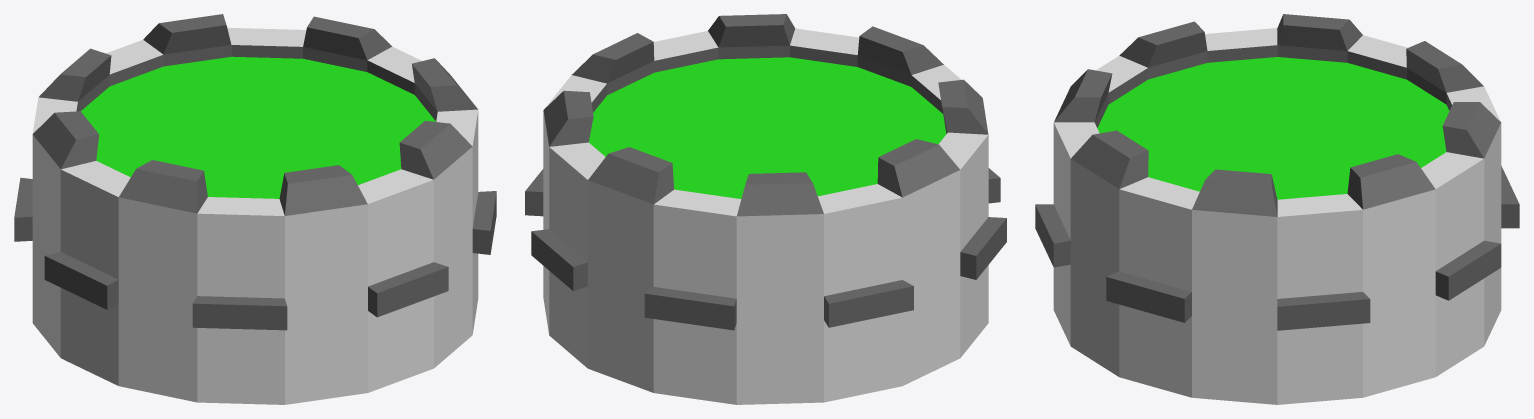
The model's file is UFO-gun.gltf.
3 views of the same model, side by side, from view 1: azimuth 30°, elevation 25°; view 2: azimuth 150°, elevation 25°; view 3: azimuth 270°, elevation 25° (orthographic).
Visible parts, largest first — view 1: ufo-gun; view 2: ufo-gun; view 3: ufo-gun.
Part boxes in pixels (x1,y1,x2,y2): ufo-gun: [14, 14, 496, 404]; ufo-gun: [525, 14, 1006, 404]; ufo-gun: [1035, 14, 1519, 404].
Bounding box in the file's own units: 0.7516 × 0.3609 × 0.7516.
